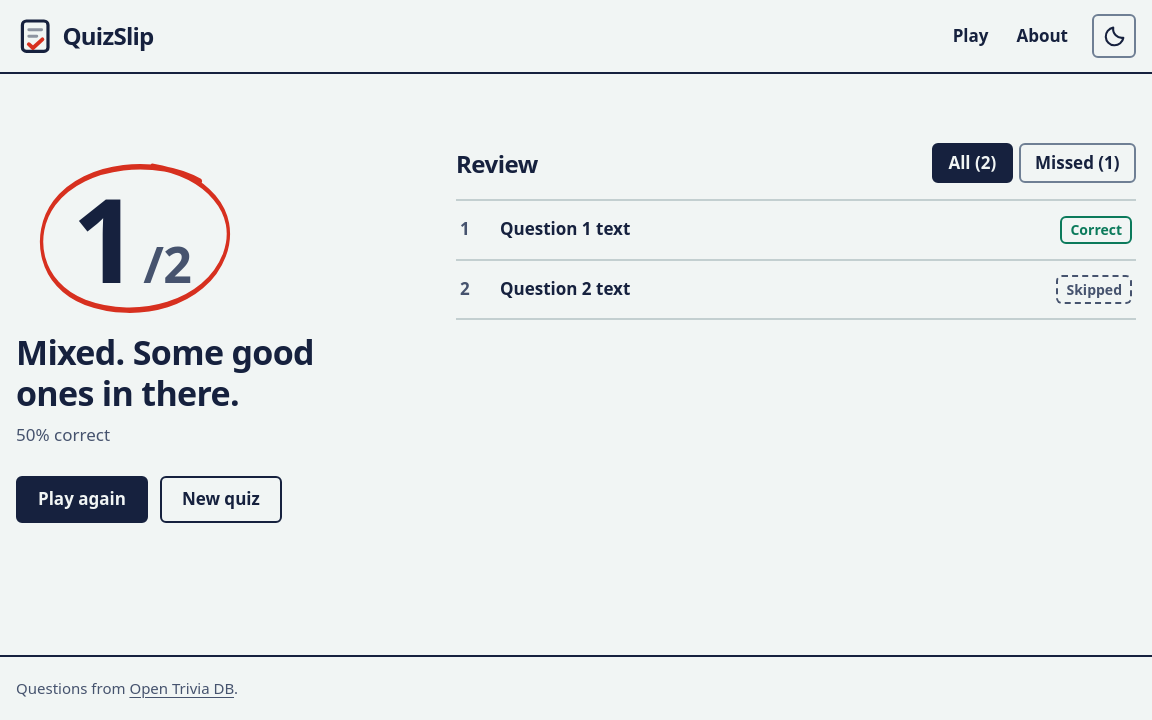
it: results page › can narrow the review to missed questions
Step 1. Click the button "Missed (1)" → click(1077, 163), box x1=1019 y1=143 x2=1136 y2=183
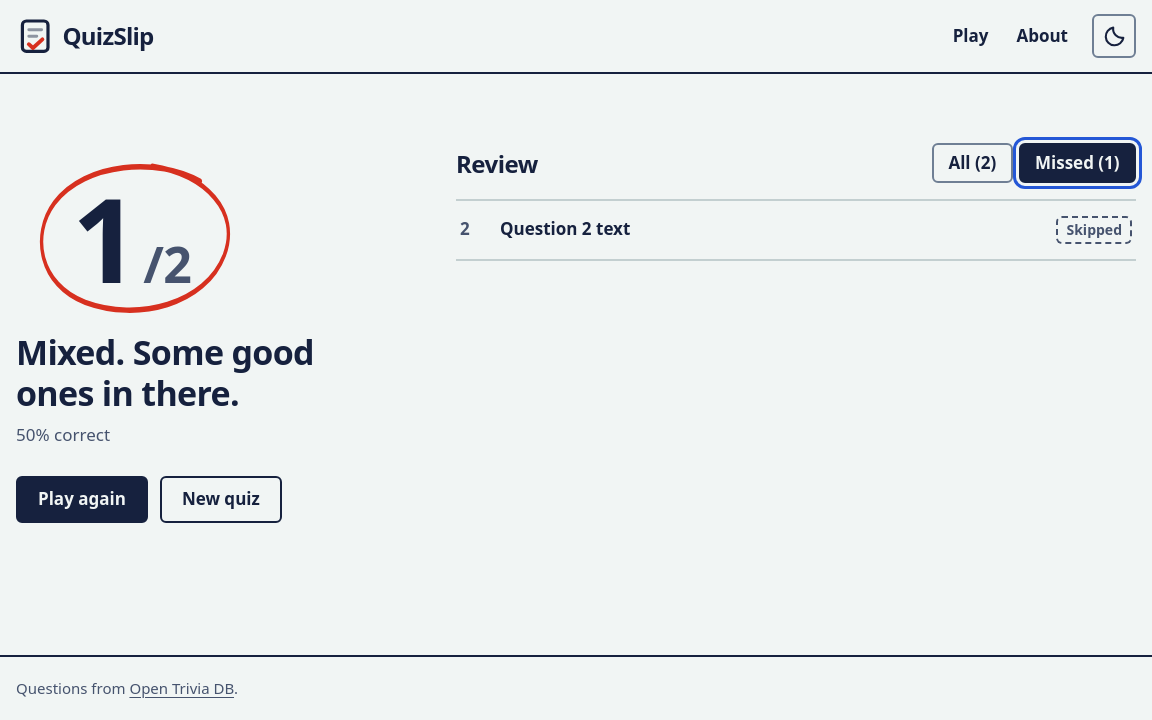
expect the text "Question 2 text" is shown: met, box x1=500 y1=217 x2=630 y2=240
expect the heading "Question 1 text" is gone: met
